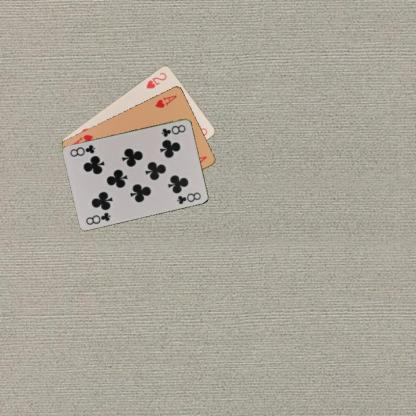2h: (143, 70, 168, 90)
8c: (83, 210, 112, 226), (159, 122, 187, 138)
Ah: (152, 92, 178, 110)
